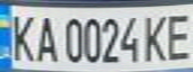0: (60, 13, 84, 64), (81, 13, 103, 64)
2: (100, 13, 121, 64)
4: (118, 12, 142, 64)
A: (30, 11, 60, 64)
E: (160, 9, 193, 62)
K: (3, 10, 39, 63), (139, 11, 172, 63)
